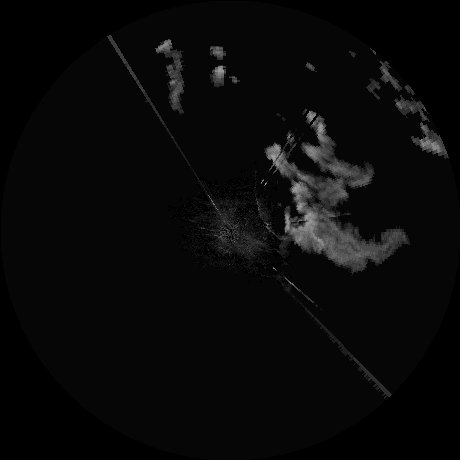frontgust: (256, 201, 288, 240)
